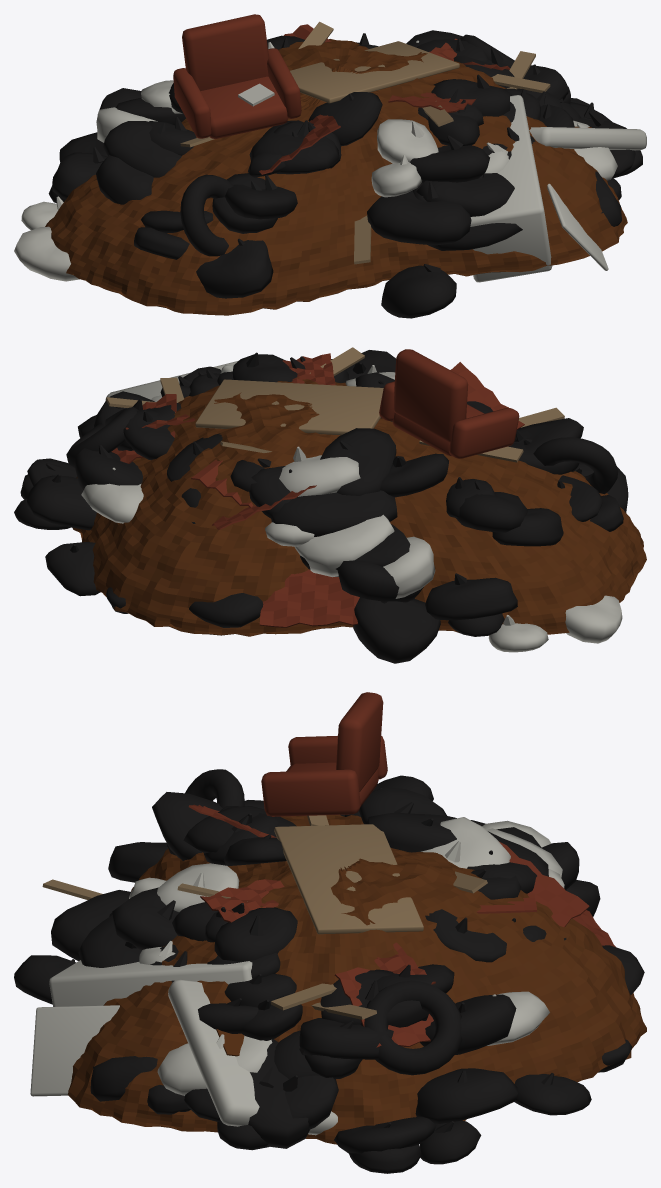
The model's file is heap.glb.
3 views of the same model, one above another, from view 1: azimuth 30°, elevation 25°; view 2: azimuth 150°, elevation 25°; view 3: azimuth 270°, elevation 25° (orthographic). The views are drawn at different scales.
Parts seen in each view (by area): view 1: dirt, fridge, chair_back, door, bag_45, chair_seat, bag_0, bag_63, bag_14, tyre_0, bag_92, bag_83 (+43 smaller); view 2: dirt, door, chair_back, bag_61, tin_2, bag_39, bag_17, bag_56, bag_27, bag_59, chair_arm_-1, tyre_0 (+42 smaller); view 3: dirt, door, mattress, fridge, tyre_1, fridge_door, chair_arm_1, bag_59, chair_back, bag_77, bag_60, bag_2 (+49 smaller).
Boxes of the visible parts, bbox=[...] form: dirt: bbox=[45, 39, 627, 315]; fridge: bbox=[470, 95, 552, 282]; chair_back: bbox=[182, 14, 268, 91]; door: bbox=[290, 41, 459, 103]; bag_45: bbox=[367, 190, 471, 245]; chair_seat: bbox=[200, 76, 287, 138]; bag_0: bbox=[196, 240, 273, 298]; bag_63: bbox=[381, 265, 456, 318]; bag_14: bbox=[103, 121, 181, 177]; tyre_0: bbox=[180, 174, 233, 256]; bag_92: bbox=[416, 173, 514, 216]; bag_83: bbox=[249, 120, 339, 174]; dirt: bbox=[72, 377, 646, 636]; door: bbox=[195, 379, 383, 435]; chair_back: bbox=[393, 349, 468, 442]; bag_61: bbox=[353, 597, 440, 663]; tin_2: bbox=[259, 569, 359, 627]; bag_39: bbox=[271, 490, 397, 536]; bag_17: bbox=[425, 577, 517, 620]; bag_56: bbox=[320, 428, 396, 495]; bag_27: bbox=[294, 514, 394, 577]; bag_59: bbox=[27, 475, 96, 530]; chair_arm_-1: bbox=[449, 408, 519, 458]; tyre_0: bbox=[533, 437, 618, 494]; dirt: bbox=[67, 814, 646, 1144]; door: bbox=[274, 824, 423, 934]; mattress: bbox=[168, 979, 337, 1135]; fridge: bbox=[49, 960, 252, 1006]; tyre_1: bbox=[360, 980, 462, 1075]; fridge_door: bbox=[30, 1005, 119, 1096]; chair_arm_1: bbox=[261, 769, 360, 816]; bag_59: bbox=[415, 1068, 517, 1123]; chair_back: bbox=[336, 692, 383, 791]; bag_77: bbox=[214, 907, 297, 961]; bag_60: bbox=[248, 1039, 309, 1148]; bag_2: bbox=[299, 1018, 393, 1059].
Bounding box in the file's own units: 5.64 × 2.12 × 4.52.
